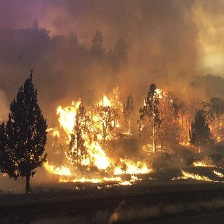fire: (46, 101, 149, 188), (173, 158, 224, 187), (140, 141, 170, 157), (155, 84, 174, 104)
smoke: (3, 2, 224, 95)
